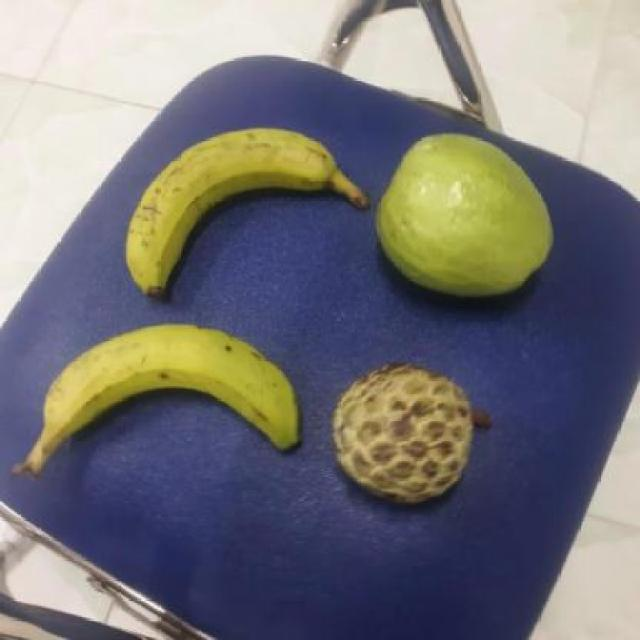banana: (128, 129, 380, 302), (43, 325, 314, 466)
guava: (373, 131, 555, 300)
sugar apple: (335, 364, 490, 504)
